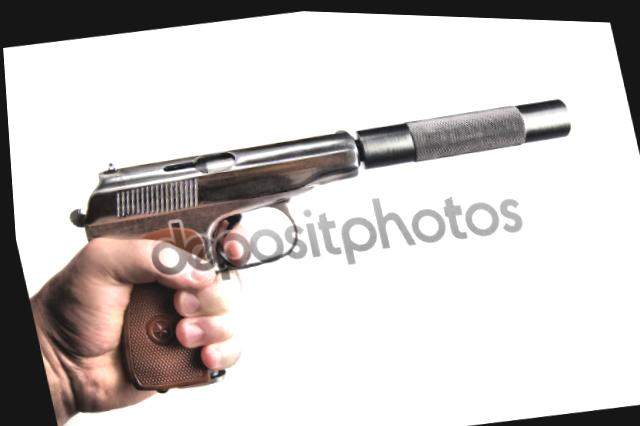pistol: (57, 118, 395, 407)
